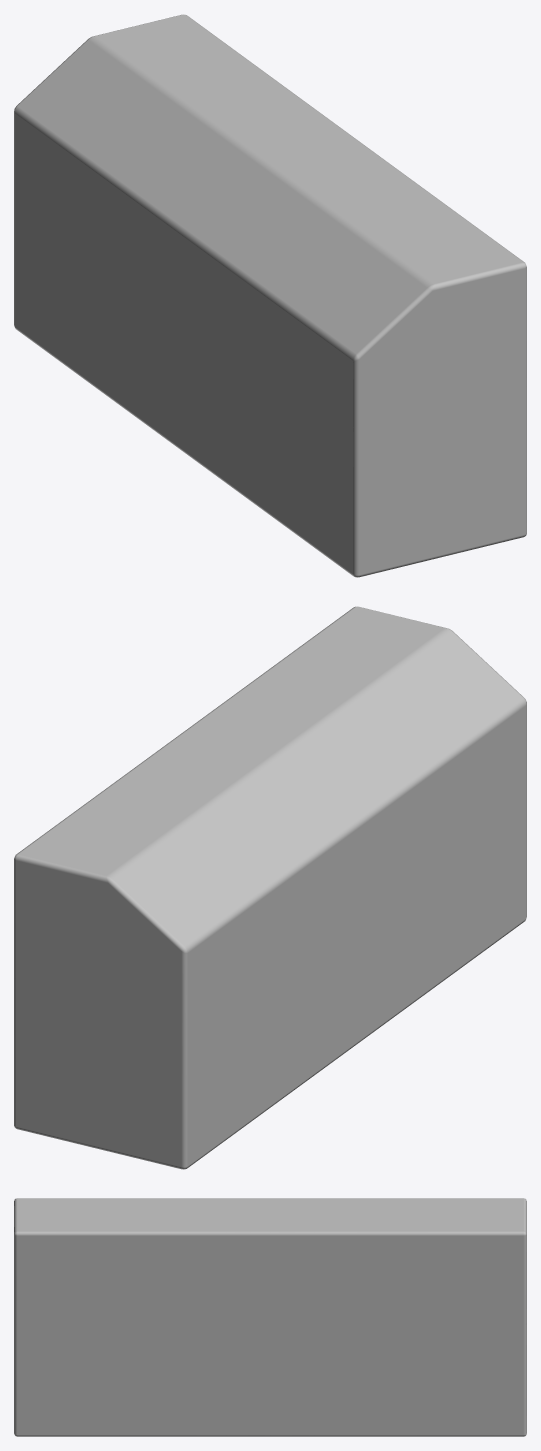
Rendered from Conveyor_Control.fbx.
The picture shows the model from 3 angles, top to bottom: view 1: azimuth 30°, elevation 25°; view 2: azimuth 150°, elevation 25°; view 3: azimuth 270°, elevation 25°; orthographic projection. The views are drawn at different scales.
Visible parts, largest first — view 1: Cube; view 2: Cube; view 3: Cube.
Part boxes in pixels (bbox=[...]): Cube: bbox=[14, 14, 526, 577]; Cube: bbox=[14, 606, 526, 1169]; Cube: bbox=[14, 1198, 526, 1436].
Bounding box in the file's own units: 64.06 × 96.99 × 220.
